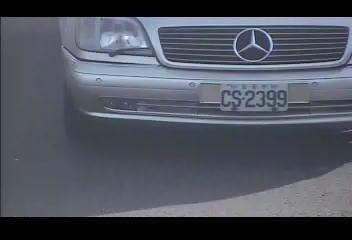plate: (218, 83, 290, 113)
